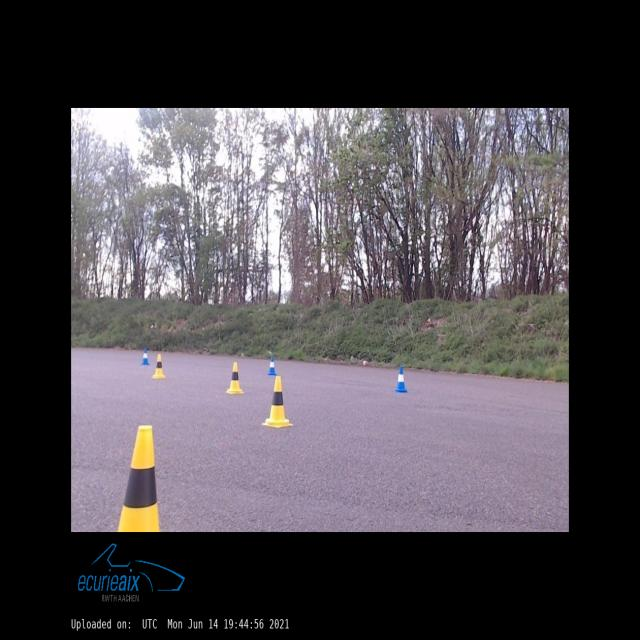blue_cone: (396, 367, 408, 392), (268, 356, 277, 375), (142, 348, 150, 364)
yellow_cone: (118, 425, 159, 531), (262, 376, 293, 427), (226, 362, 244, 393), (152, 354, 165, 378)
